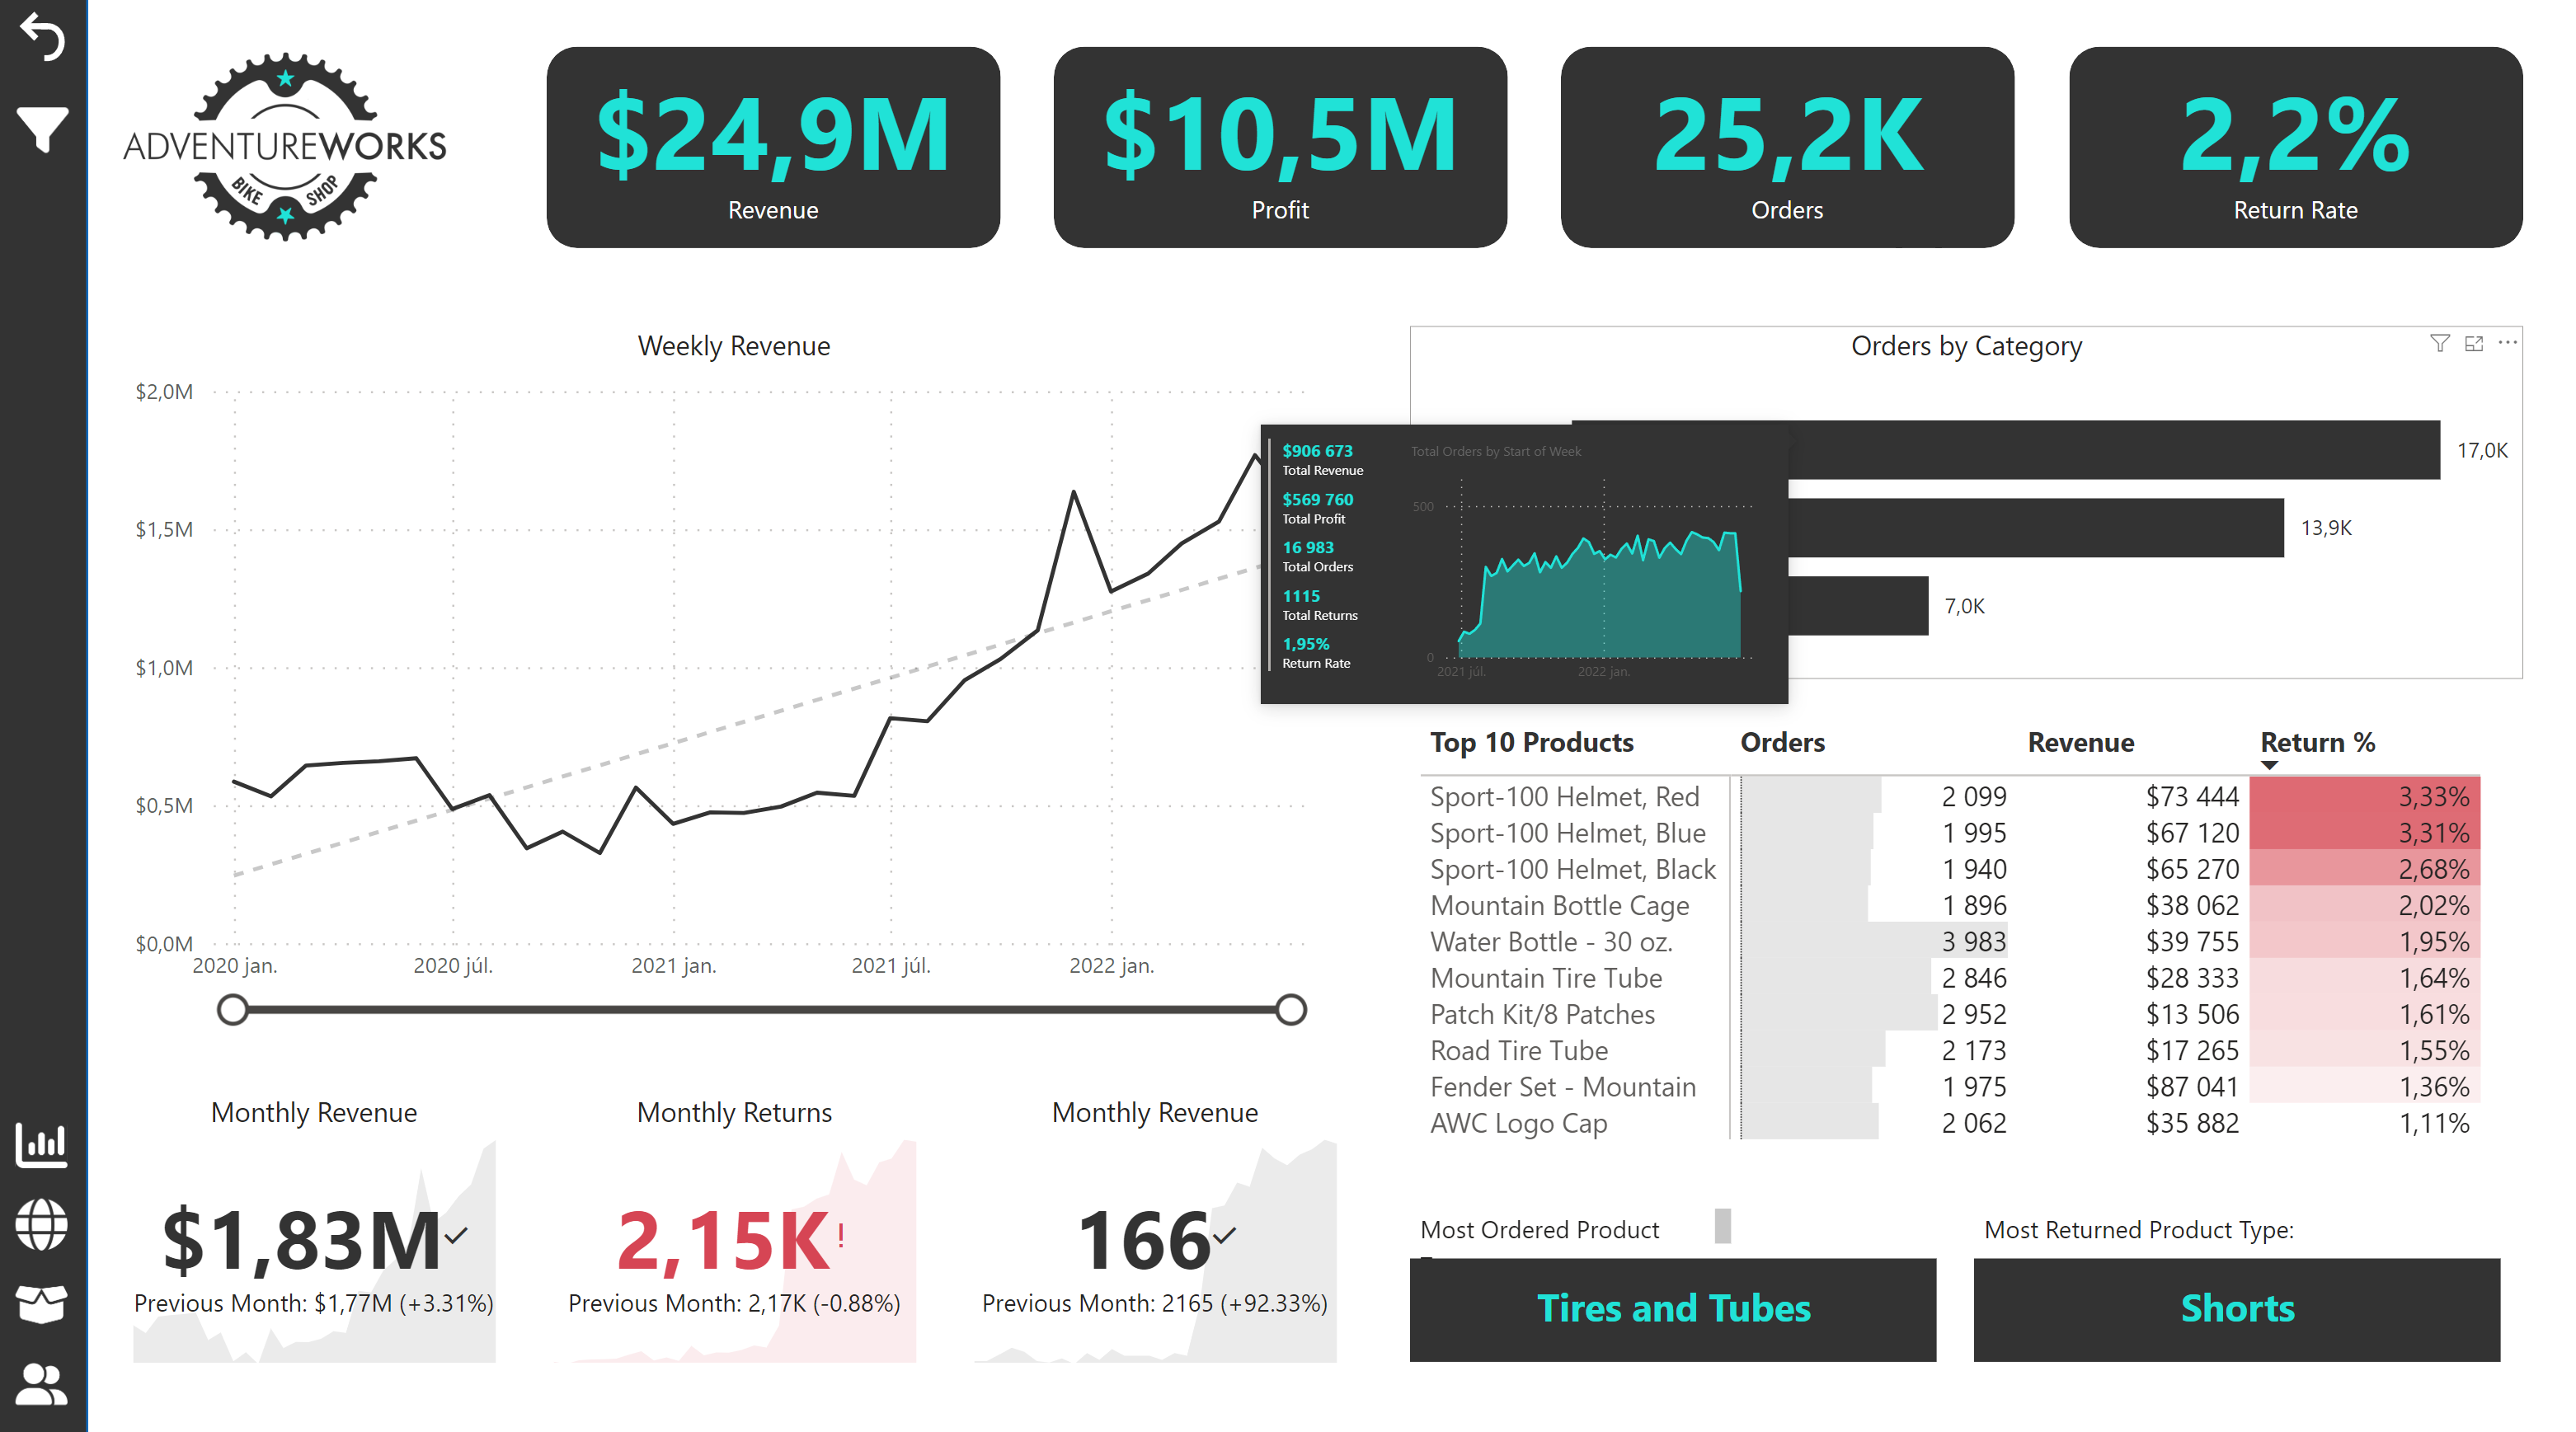

Layout of this report page (visuals, bound fields, positions):
{"tool":"powerbi","page":{"name":"Exec Dashboard","canvas":[1280,720],"ordinal":0},"visuals":[{"type":"image","title":"AW Logo","box":[39.3,24.7,206.7,110],"z":0},{"type":"group","id":"g1","title":"KPI Background","box":[272.7,30,980.7,100],"z":0,"group":"g3"},{"type":"shape","box":[272.7,30,225.3,100],"z":0,"group":"g1"},{"type":"card","fields":{"Values":["Measure Table.Total Revenue"]},"box":[282,30,206,95.3],"z":0,"group":"g2"},{"type":"actionButton","box":[4.8,637.5,33.8,33.8],"z":0,"group":"g4"},{"type":"shape","title":"Left Nav Bar","box":[0,0,45,720],"z":1000},{"type":"group","id":"g2","title":"KPI Values","box":[282,30,961.3,95.3],"z":1000,"group":"g3"},{"type":"shape","box":[524.5,30,225.3,100],"z":1000,"group":"g1"},{"type":"card","fields":{"Values":["Measure Table.Total Profit"]},"box":[533.8,30,206,95.3],"z":1000,"group":"g2"},{"type":"actionButton","box":[4.7,598,33.8,33.8],"z":1000,"group":"g4"},{"type":"group","id":"g3","title":"KPIs","box":[272.7,30,980.7,100],"z":2000},{"type":"card","fields":{"Values":["Measure Table.Total Orders"]},"box":[785.6,30,206,95.3],"z":2000,"group":"g2"},{"type":"shape","box":[1028,30,225.3,100],"z":2000,"group":"g1"},{"type":"actionButton","box":[4.6,558.5,33.8,33.8],"z":2000,"group":"g4"},{"type":"shape","box":[776.3,30,225.3,100],"z":3000,"group":"g1"},{"type":"card","fields":{"Values":["Measure Table.Return Rate"]},"box":[1037.3,30,206,95.3],"z":3000,"group":"g2"},{"type":"lineChart","title":"Weekly Revenue","fields":{"Y":["Measure Table.Total Revenue"],"Category":["Calendar Lookup.Year","Calendar Lookup.Start of Quarter","Calendar Lookup.Start of Month"]},"box":[62.1,168.6,607.1,350],"z":3000},{"type":"actionButton","box":[4.9,677,33.8,33.8],"z":3000,"group":"g4"},{"type":"kpi","title":"Monthly Revenue","fields":{"Indicator":["Measure Table.Total Revenue"],"TrendLine":["Calendar Lookup.Start of Month"],"Goal":["Measure Table.Previous Month Revenue"]},"box":[62.2,549.4,190.1,139.2],"z":4000},{"type":"kpi","title":"Monthly Returns","fields":{"Indicator":["Measure Table.Total Orders"],"TrendLine":["Calendar Lookup.Start of Month"],"Goal":["Measure Table.Previous Month Orders"]},"box":[270.8,549.4,190.1,139.2],"z":5000},{"type":"kpi","title":"Monthly Revenue","fields":{"Indicator":["Measure Table.Total Returns"],"TrendLine":["Calendar Lookup.Start of Month"],"Goal":["Measure Table.Previous Month Orders"]},"box":[479.3,549.4,190.1,139.2],"z":6000},{"type":"clusteredBarChart","title":"Orders by Category","fields":{"Category":["Product Categories Lookup.CategoryName"],"Y":["Measure Table.Total Orders"]},"box":[700.7,168.7,552.7,175.3],"z":7000},{"type":"pivotTable","fields":{"Rows":["Product Categories Lookup.CategoryName","Product Lookup.ProductName"],"Values":["Measure Table.Total Orders","Measure Table.Total Revenue","Measure Table.Return Rate"]},"box":[700.8,360,552.3,222.3],"z":8000},{"type":"card","fields":{"Values":["Min(Product Subcategories Lookup.SubcategoryName)"]},"box":[700.8,631.8,261.5,51.5],"z":9000},{"type":"textbox","box":[700.8,601.7,164.2,35],"z":10000},{"type":"card","fields":{"Values":["Min(Product Subcategories Lookup.SubcategoryName)"]},"box":[980.8,631.8,261.5,51.5],"z":11000},{"type":"textbox","box":[980.8,601.7,179.2,33.3],"z":12000},{"type":"actionButton","box":[5.4,7.7,33.8,33.8],"z":13000},{"type":"group","id":"g4","title":"Navigation Buttons","box":[4.6,558.5,34.1,152.3],"z":14000},{"type":"actionButton","box":[5.4,54.6,33.8,33.8],"z":15000}]}

Visuals, with their boxes on the page's 1280x720 design canvas (x1, y1, x2, y2). These are canvas units, not pixel positions in the 2576x1432 screenshot, which may show the page scaled, cropped or inside an application window:
"AW Logo" image: left=39, top=25, right=246, bottom=135
"KPI Background" group: left=273, top=30, right=1253, bottom=130
shape: left=273, top=30, right=498, bottom=130
card - Measure Table.Total Revenue: left=282, top=30, right=488, bottom=125
actionButton: left=5, top=638, right=39, bottom=671
"Left Nav Bar" shape: left=0, top=0, right=45, bottom=720
"KPI Values" group: left=282, top=30, right=1243, bottom=125
shape: left=524, top=30, right=750, bottom=130
card - Measure Table.Total Profit: left=534, top=30, right=740, bottom=125
actionButton: left=5, top=598, right=38, bottom=632
"KPIs" group: left=273, top=30, right=1253, bottom=130
card - Measure Table.Total Orders: left=786, top=30, right=992, bottom=125
shape: left=1028, top=30, right=1253, bottom=130
actionButton: left=5, top=558, right=38, bottom=592
shape: left=776, top=30, right=1002, bottom=130
card - Measure Table.Return Rate: left=1037, top=30, right=1243, bottom=125
"Weekly Revenue" lineChart: left=62, top=169, right=669, bottom=519
actionButton: left=5, top=677, right=39, bottom=711
"Monthly Revenue" kpi: left=62, top=549, right=252, bottom=689
"Monthly Returns" kpi: left=271, top=549, right=461, bottom=689
"Monthly Revenue" kpi: left=479, top=549, right=669, bottom=689
"Orders by Category" clusteredBarChart: left=701, top=169, right=1253, bottom=344
pivotTable - Product Categories Lookup.CategoryName x Product Lookup.ProductName: left=701, top=360, right=1253, bottom=582
card - Min(Product Subcategories Lookup.SubcategoryName): left=701, top=632, right=962, bottom=683
textbox: left=701, top=602, right=865, bottom=637
card - Min(Product Subcategories Lookup.SubcategoryName): left=981, top=632, right=1242, bottom=683
textbox: left=981, top=602, right=1160, bottom=635
actionButton: left=5, top=8, right=39, bottom=42
"Navigation Buttons" group: left=5, top=558, right=39, bottom=711
actionButton: left=5, top=55, right=39, bottom=88
